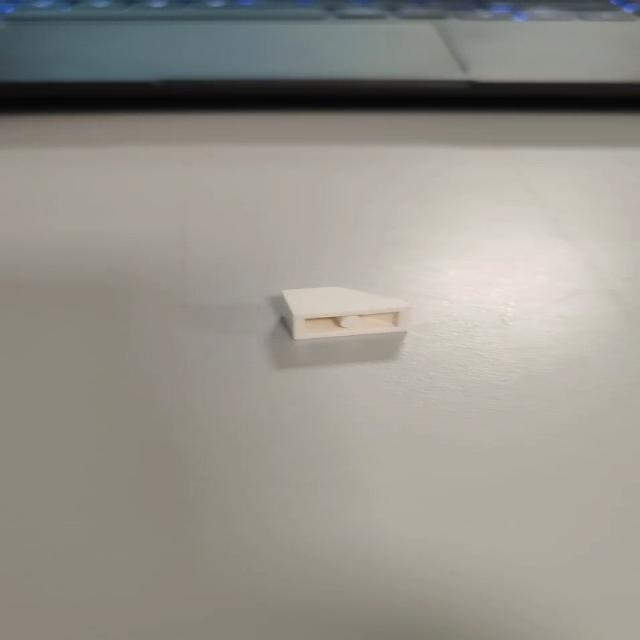C3x1x1: (1, 0, 638, 100)
P1x2x1: (272, 286, 422, 342)
